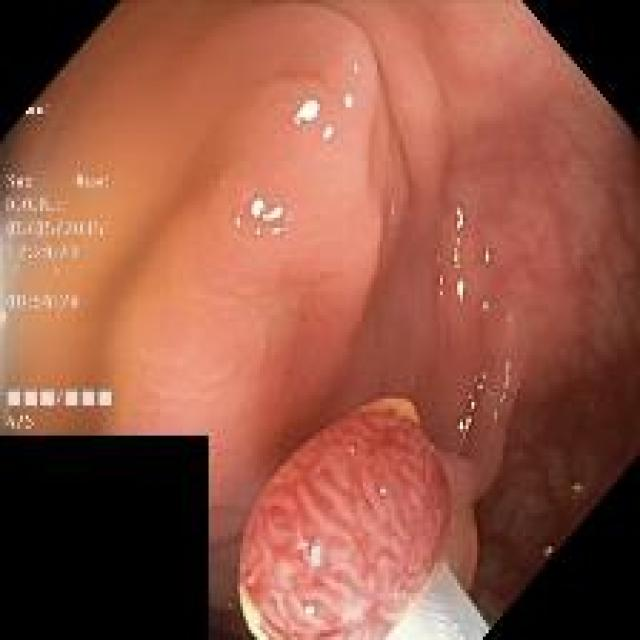Polyps: (239, 410, 450, 639)
